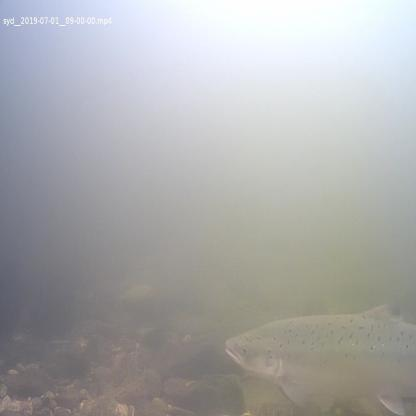salmon: (224, 294, 416, 415)
